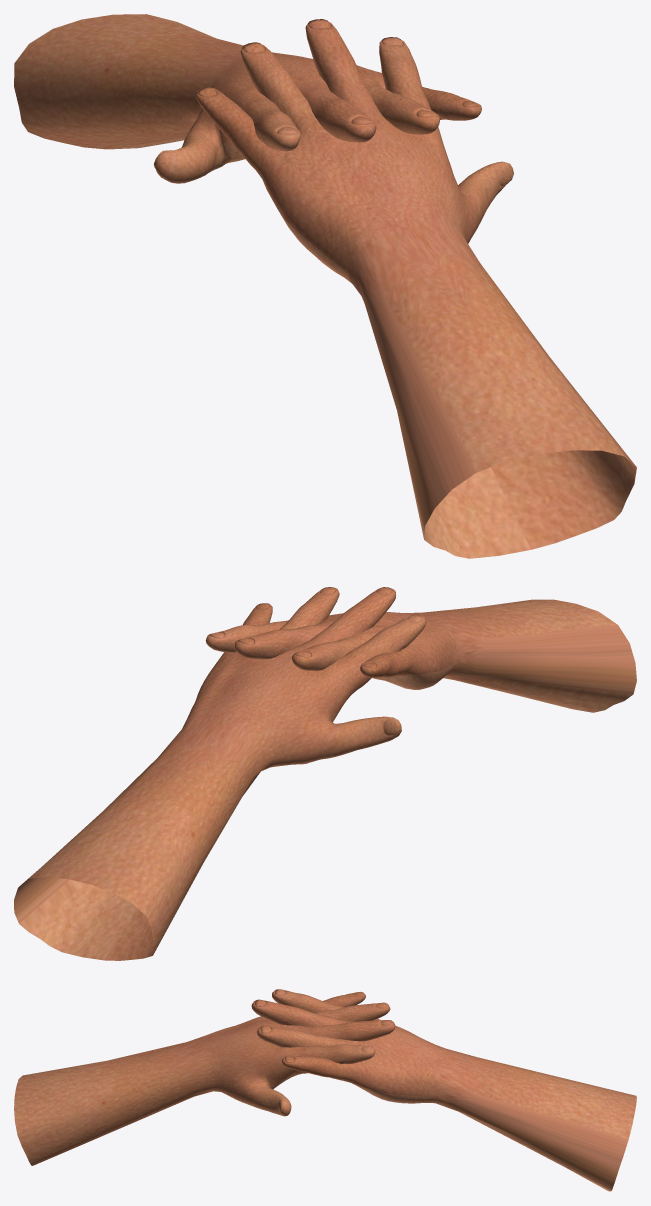
The model's file is hands_000141.obj.
The picture shows the model from 3 angles, top to bottom: view 1: azimuth 30°, elevation 25°; view 2: azimuth 150°, elevation 25°; view 3: azimuth 270°, elevation 25°; orthographic projection. The views are drawn at different scales.
Parts seen in each view (by area): view 1: hand.001_Mesh.001, hand_Mesh; view 2: hand_Mesh, hand.001_Mesh.001; view 3: hand_Mesh, hand.001_Mesh.001.
Part boxes in pixels (x1,y1,x2,y2): hand.001_Mesh.001: (196,19,636,558); hand_Mesh: (14,14,481,183); hand_Mesh: (14,587,426,960); hand.001_Mesh.001: (205,599,636,712); hand_Mesh: (251,989,636,1191); hand.001_Mesh.001: (14,992,395,1165).
Size of the model in its own units: 1.58 by 1.4 by 4.93.
Materials: 1 (1 with a texture image).
